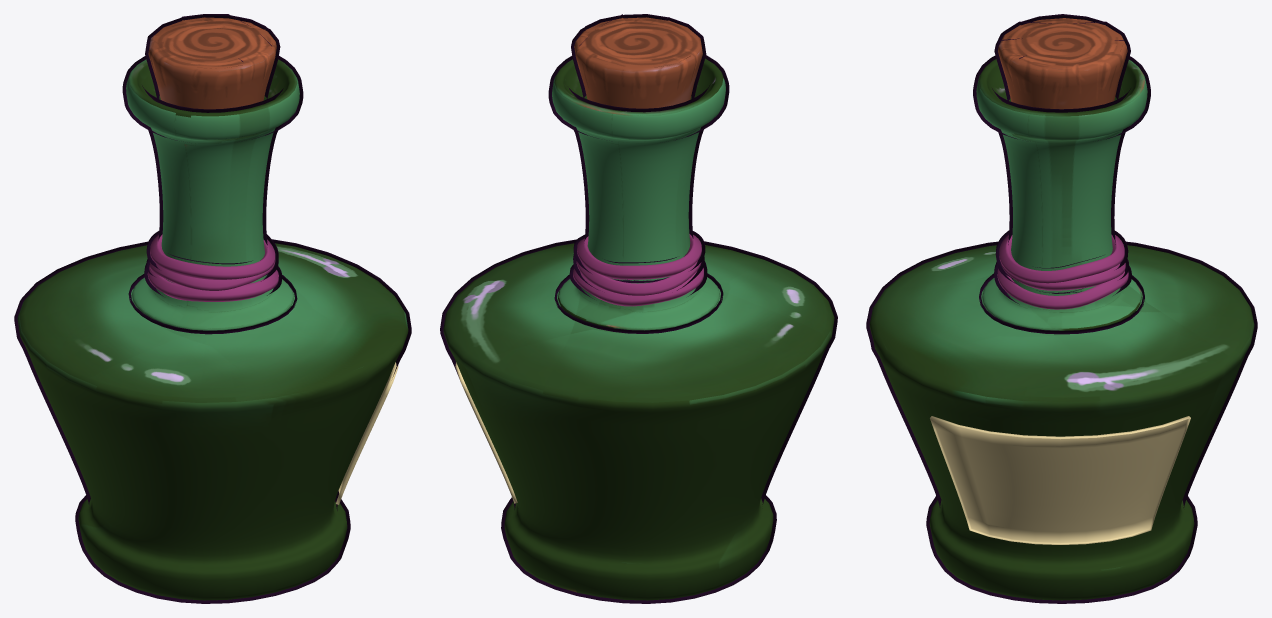
Rendered from Doctorstrange1.glb.
3 renders of one model, left to right at view 1: azimuth 30°, elevation 25°; view 2: azimuth 150°, elevation 25°; view 3: azimuth 270°, elevation 25°, orthographic.
Visible parts, largest first — view 1: Cube; view 2: Cube; view 3: Cube.
Boxes of the visible parts, left/top/right/bottom form: Cube: left=14, top=14, right=411, bottom=603; Cube: left=440, top=14, right=837, bottom=603; Cube: left=866, top=14, right=1257, bottom=603.
Bounding box in the file's own units: 3.37 × 4.87 × 3.37.
5 materials, 2 textured.
